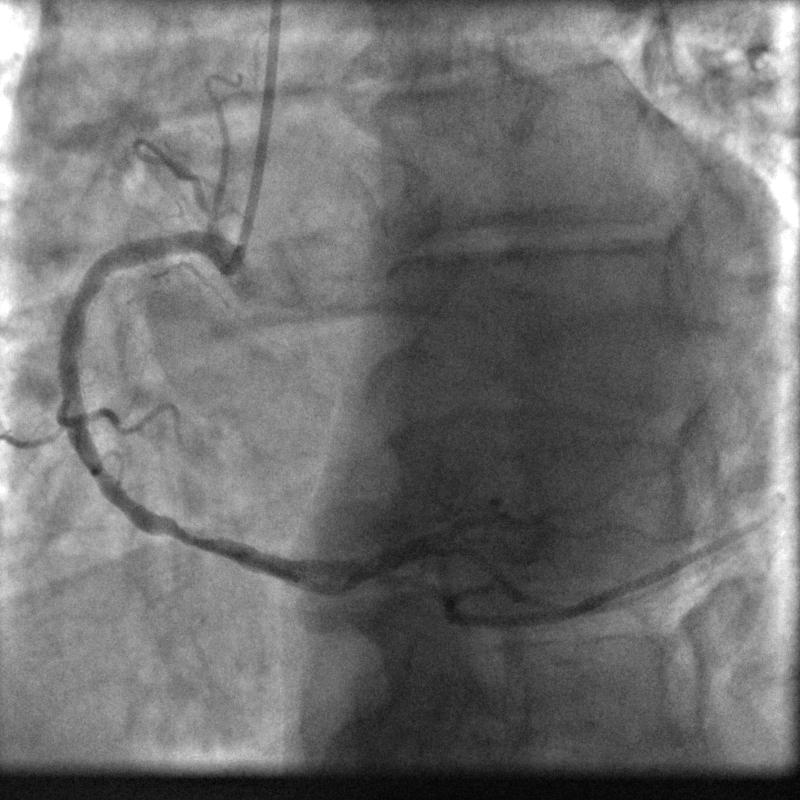Stenosis: (151, 514, 209, 558)
